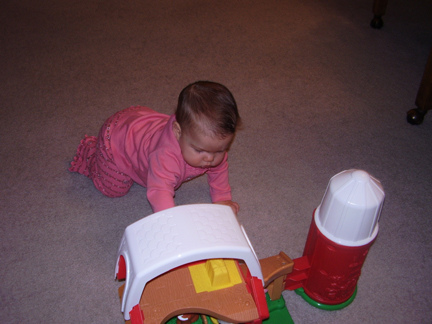person: (68, 77, 245, 218)
